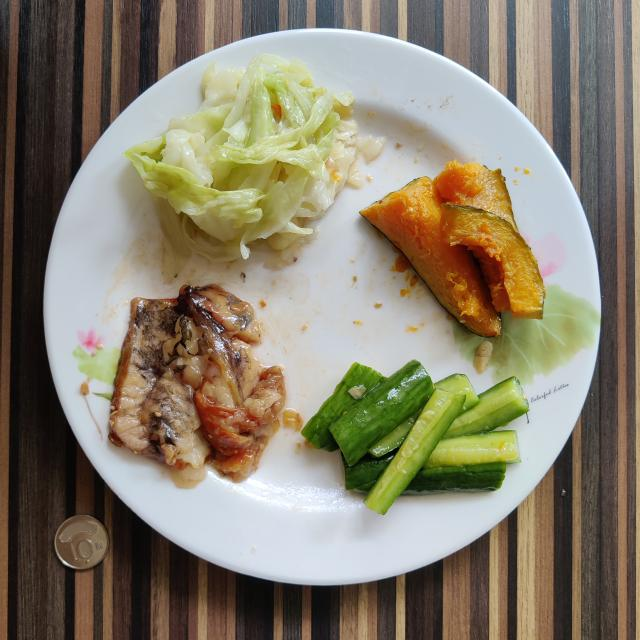Kabayaki sea bream fillet: (110, 285, 285, 481)
cabbage: (125, 55, 384, 274)
coin: (55, 515, 109, 570)
cucumber: (301, 360, 529, 514)
pumpkin: (360, 161, 545, 338)
